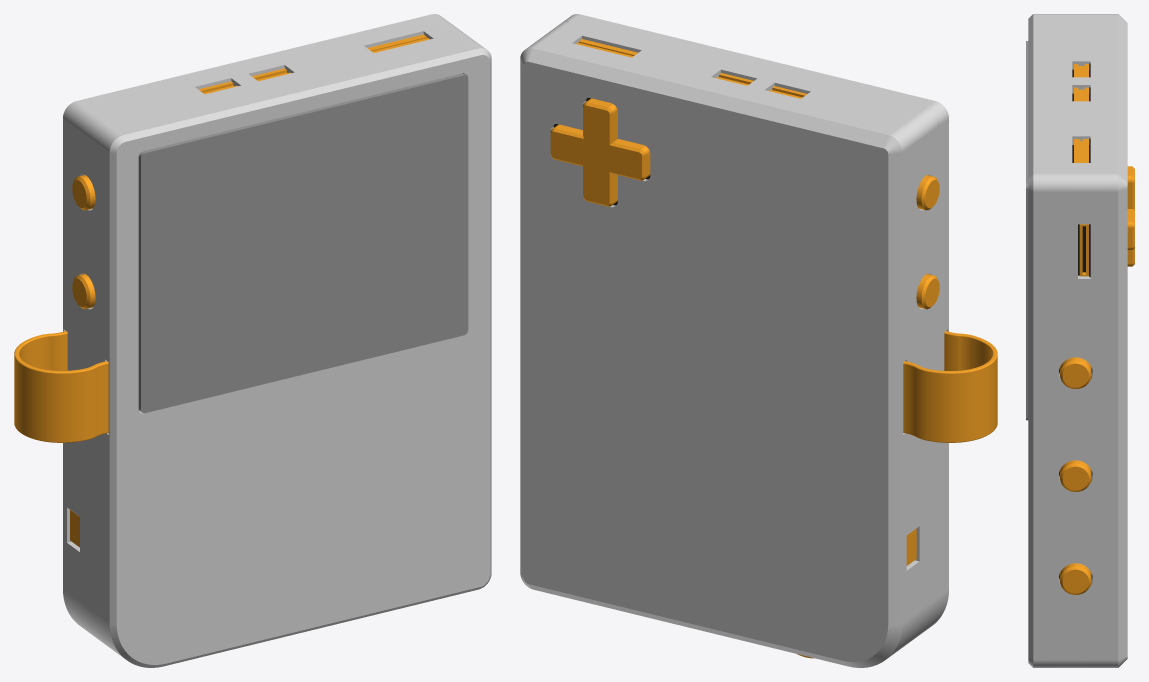
The model's file is site-assets-237.glb.
3 views of the same model, side by side, from view 1: azimuth 30°, elevation 25°; view 2: azimuth 150°, elevation 25°; view 3: azimuth 270°, elevation 25° (orthographic). The views are drawn at different scales.
Parts seen in each view (by area): view 1: Rendering, object 14; view 2: Rendering, object 14; view 3: Rendering, object 10.
Boxes of the visible parts, x1,y1,x2,y2 form: Rendering: [63, 14, 491, 667]; object 14: [14, 331, 108, 442]; Rendering: [520, 14, 948, 667]; object 14: [903, 331, 997, 442]; Rendering: [1026, 14, 1134, 667]; object 10: [1078, 224, 1090, 277].
Bounding box in the file's own units: 0.1011 × 0.1184 × 0.023.
